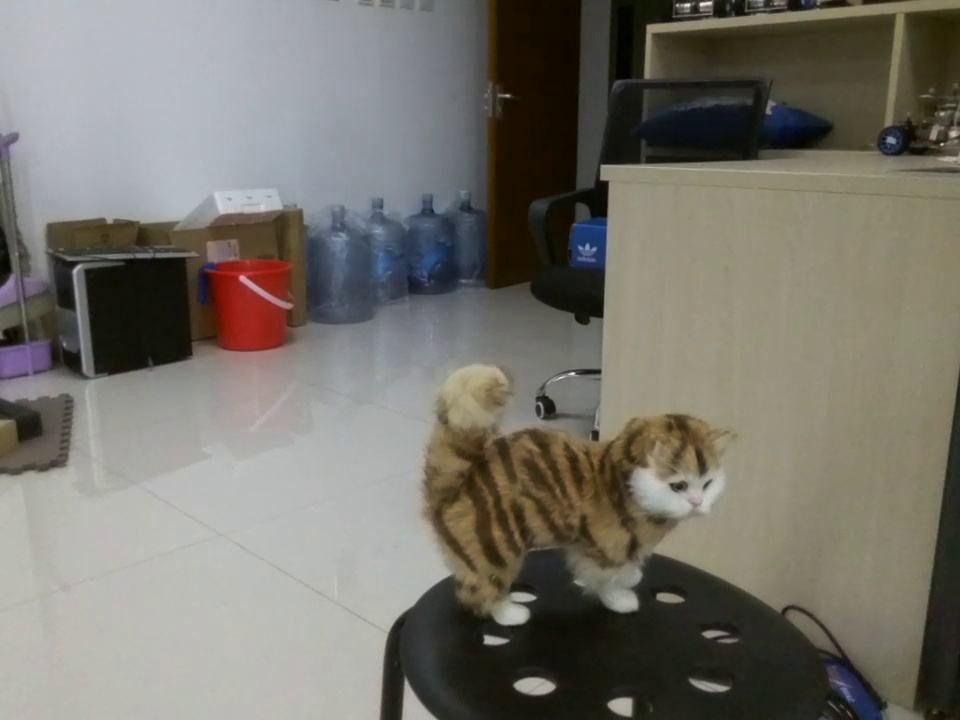cat: (408, 365, 737, 627)
